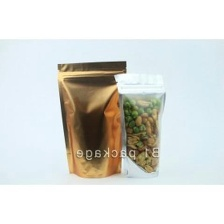snack: (51, 55, 133, 183), (109, 68, 172, 183)
